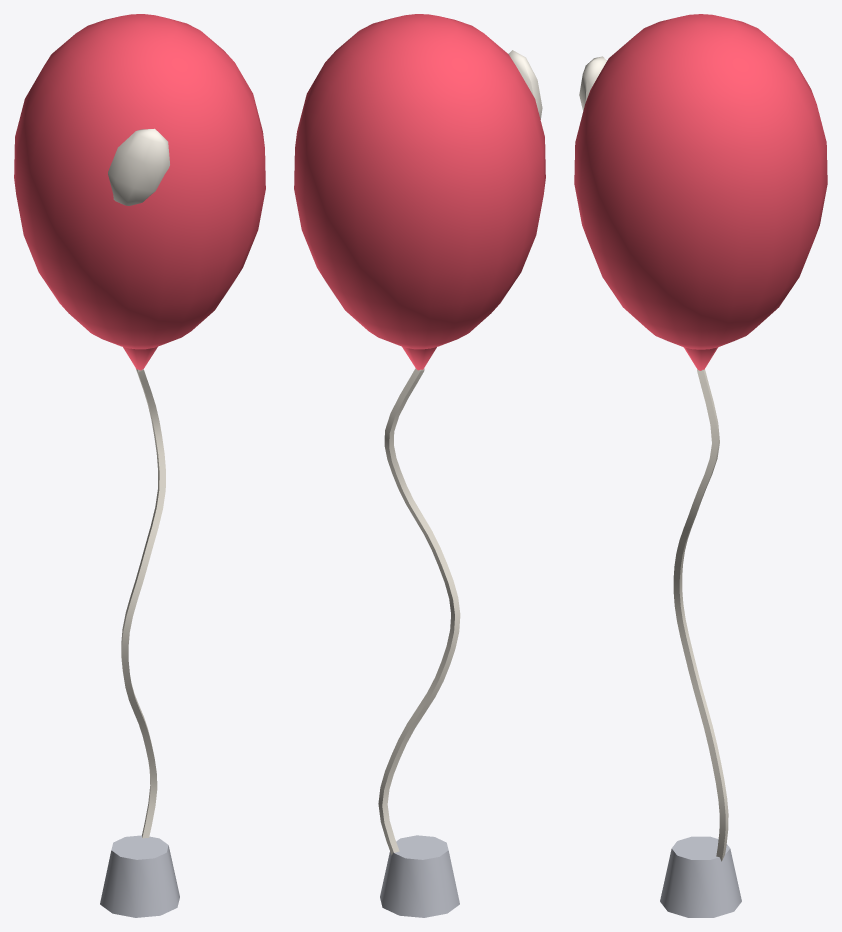
File: balloon.glb
The picture shows the model from 3 angles, left to right: view 1: azimuth 30°, elevation 25°; view 2: azimuth 150°, elevation 25°; view 3: azimuth 270°, elevation 25°; orthographic projection.
Visible parts, largest first — view 1: balloon; view 2: balloon; view 3: balloon.
Boxes of the visible parts, x1,y1,x2,y2 form: balloon: (14, 14, 265, 917); balloon: (294, 14, 545, 917); balloon: (574, 14, 827, 917).
Bounding box in the file's own units: 0.432 × 1.65 × 0.432.
